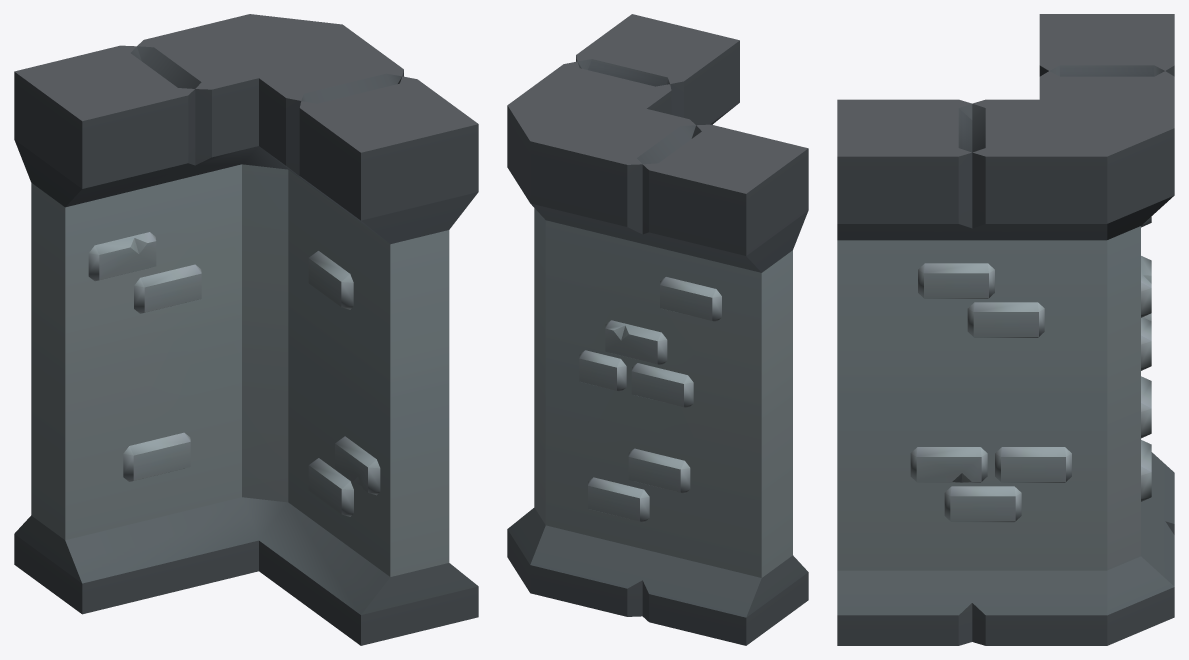
The model's file is wall_corner.glb.
The picture shows the model from 3 angles, left to right: view 1: azimuth 30°, elevation 25°; view 2: azimuth 150°, elevation 25°; view 3: azimuth 270°, elevation 25°; orthographic projection. The views are drawn at different scales.
Parts seen in each view (by area): view 1: wall_corner; view 2: wall_corner; view 3: wall_corner.
Boxes of the visible parts, x1=… form: wall_corner: x1=14, y1=14, x2=478, y2=645; wall_corner: x1=507, y1=14, x2=808, y2=645; wall_corner: x1=837, y1=14, x2=1174, y2=645.
Bounding box in the file's own units: 2.5 × 4 × 2.5.
1 material, 1 textured.
